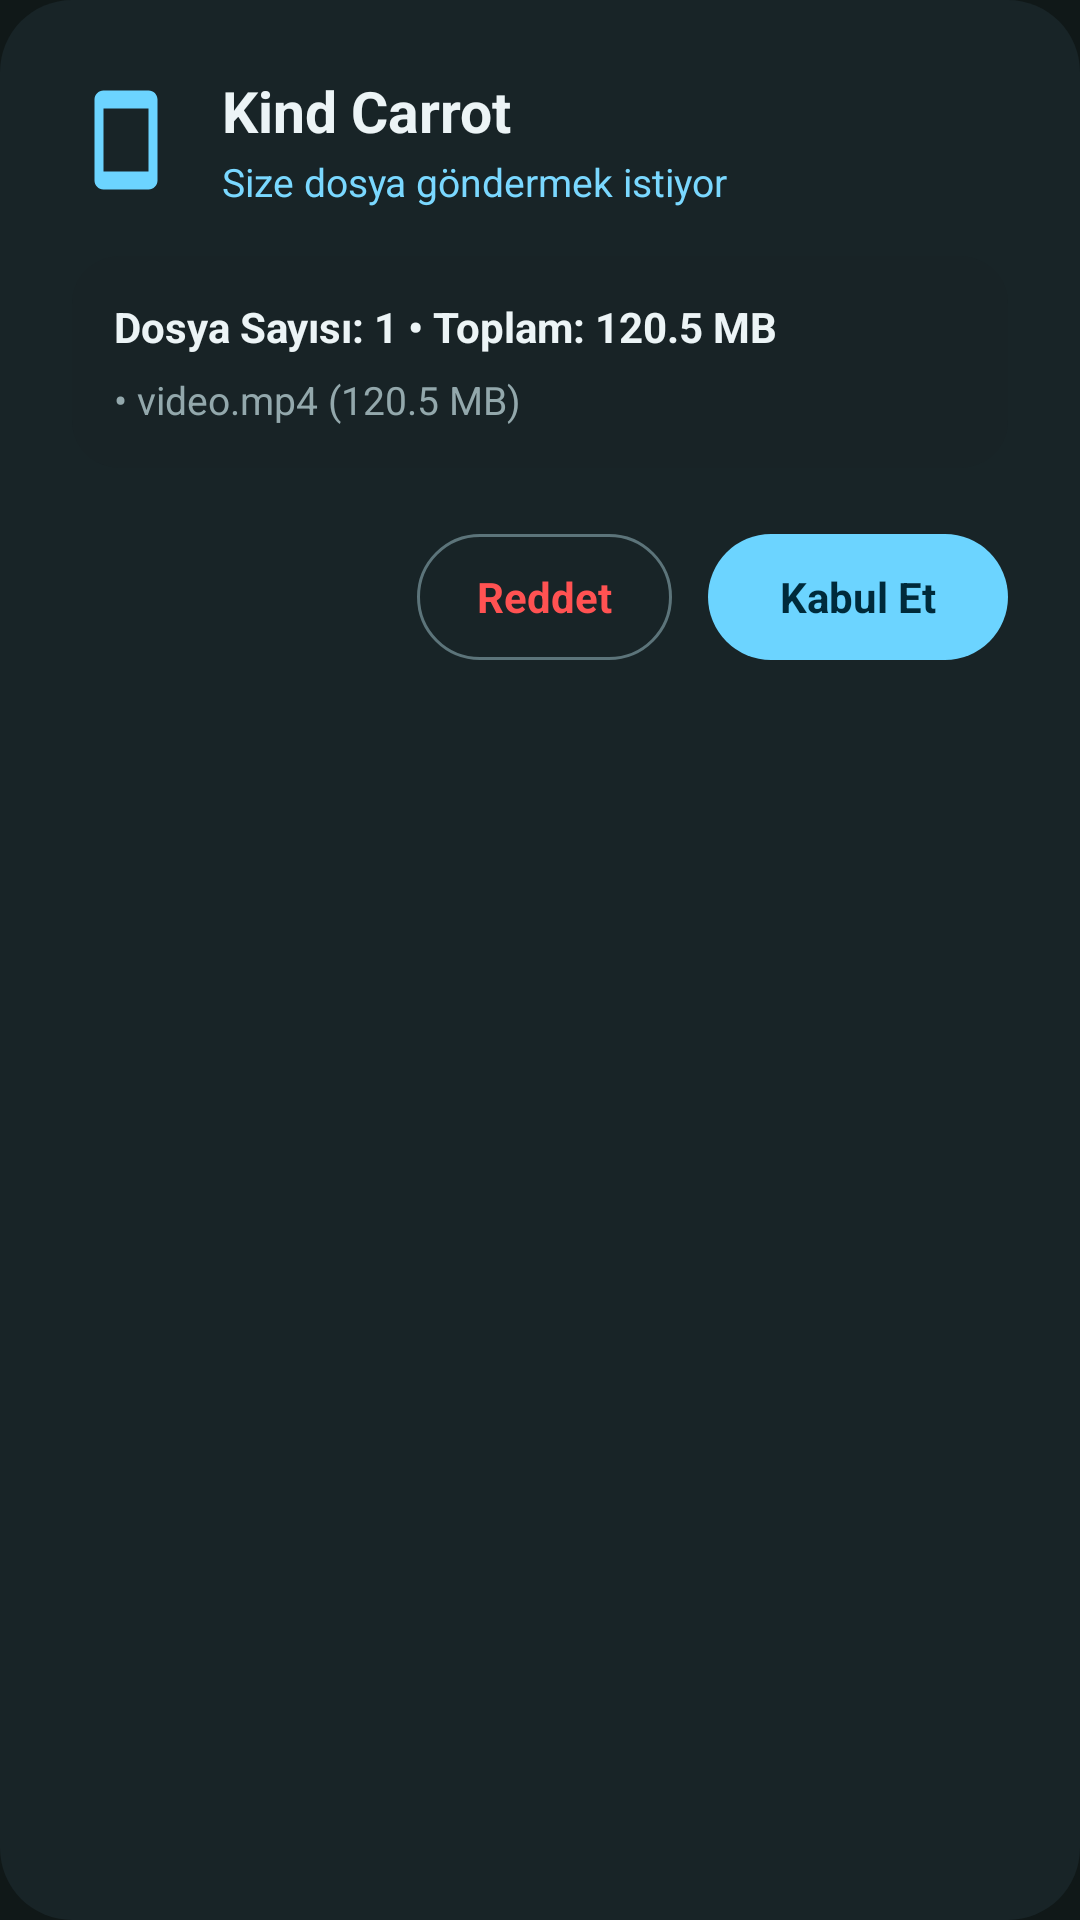

Icons on this 1080*1920 Android screen, each with the point to tap as point (x, y):
device phone: point (126, 140)
